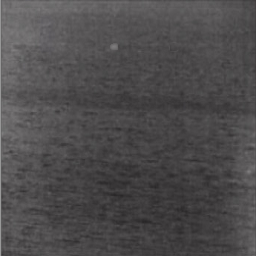Target: (109, 42, 119, 51)
